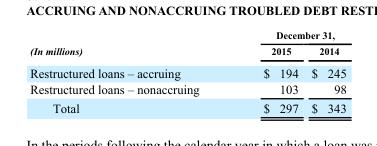table: (29, 29, 345, 114)
table column: (29, 29, 230, 114), (230, 29, 304, 114), (304, 29, 345, 114)
table column header: (29, 29, 345, 61)
table row: (29, 42, 345, 61), (29, 61, 345, 80), (29, 80, 345, 98), (29, 98, 345, 114), (29, 29, 345, 42)
table spanning cell: (29, 29, 230, 61), (230, 29, 345, 42)
